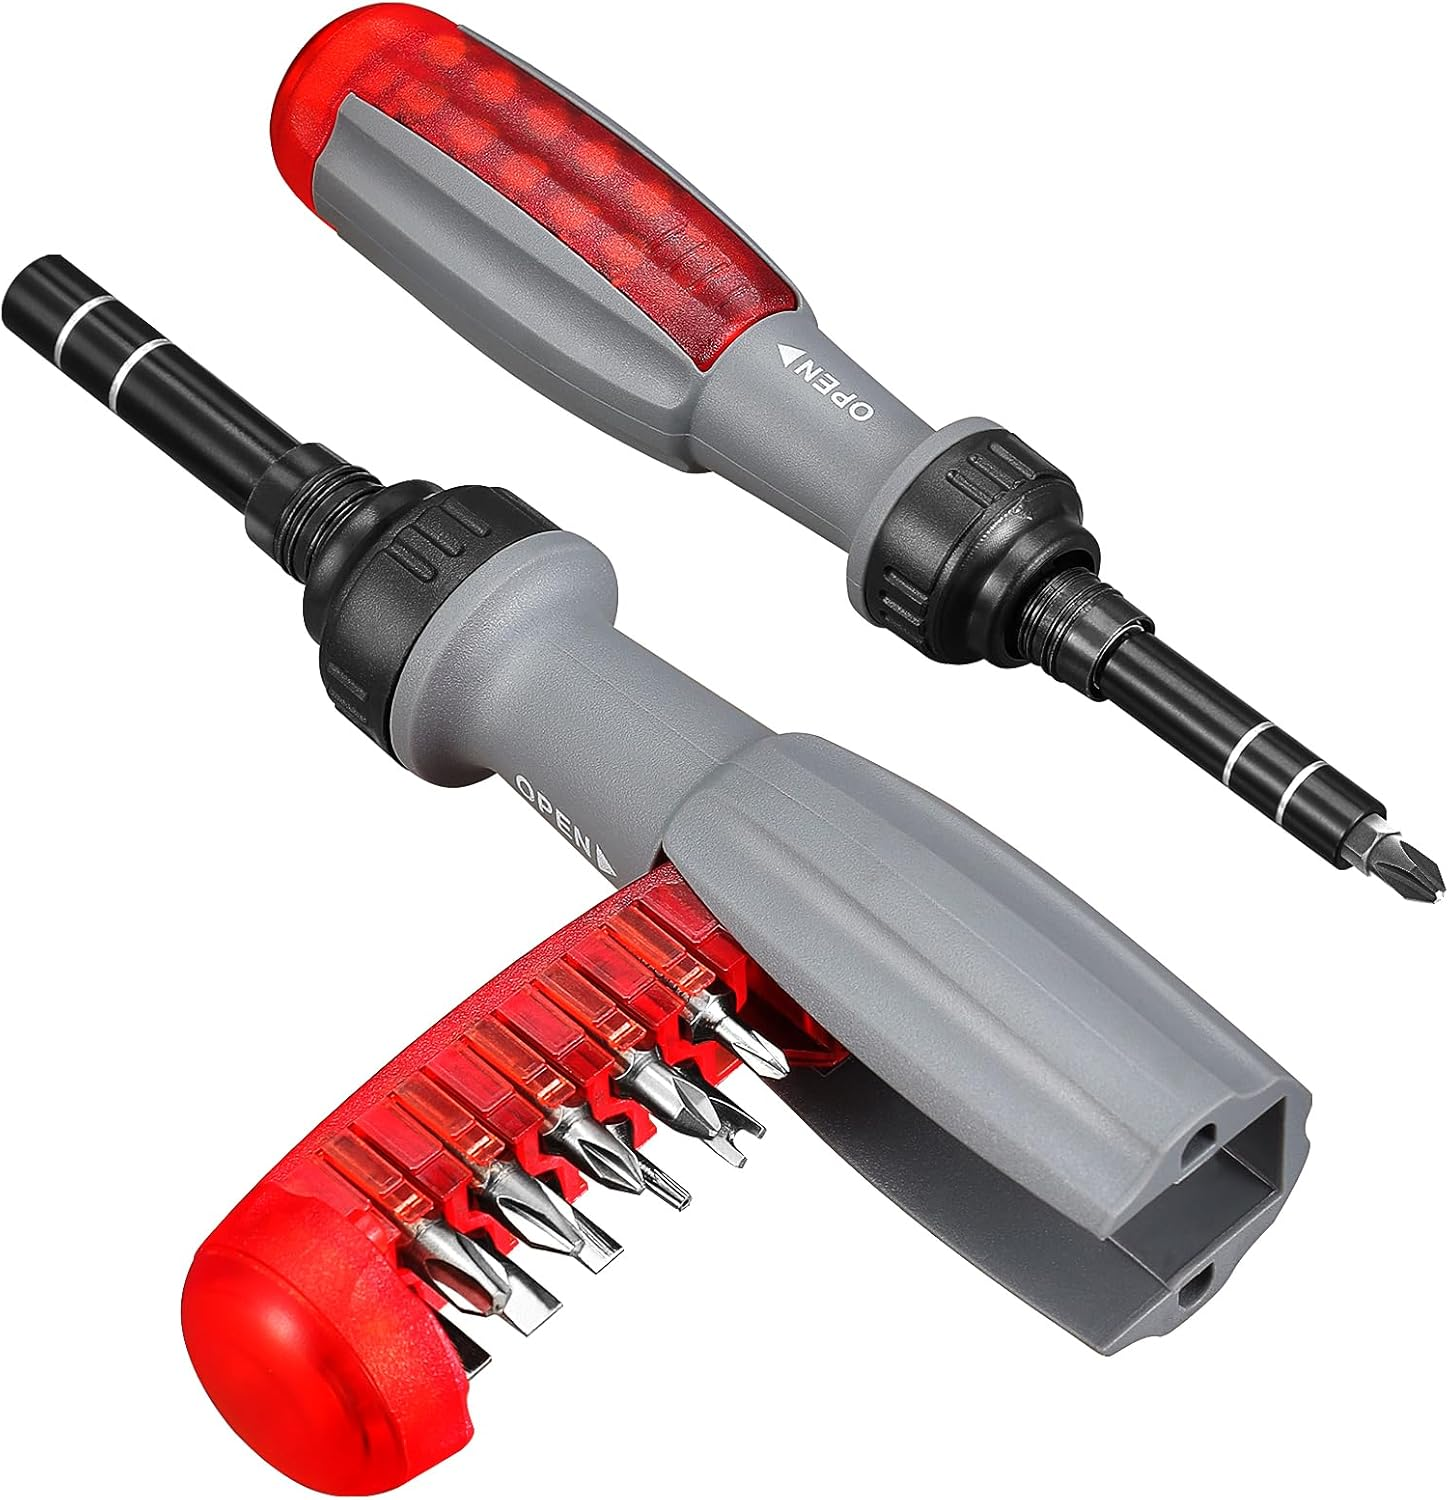screwdriver: (5, 253, 1322, 1450), (266, 1, 1448, 916)
